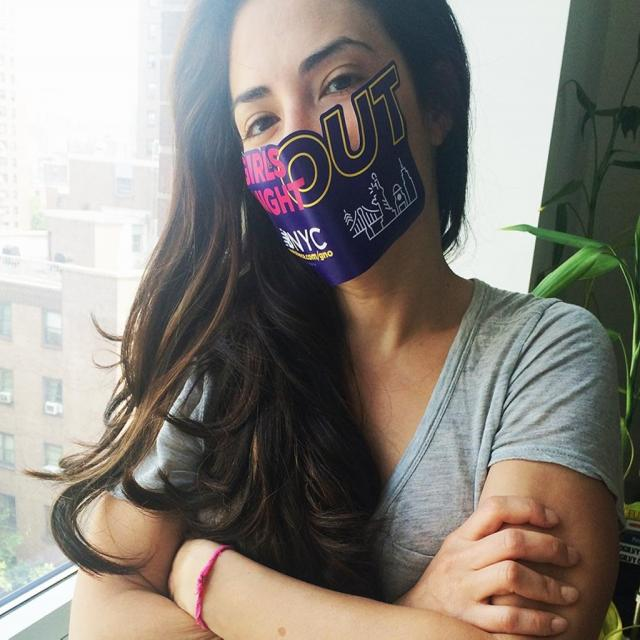nomask: (232, 2, 416, 270)
